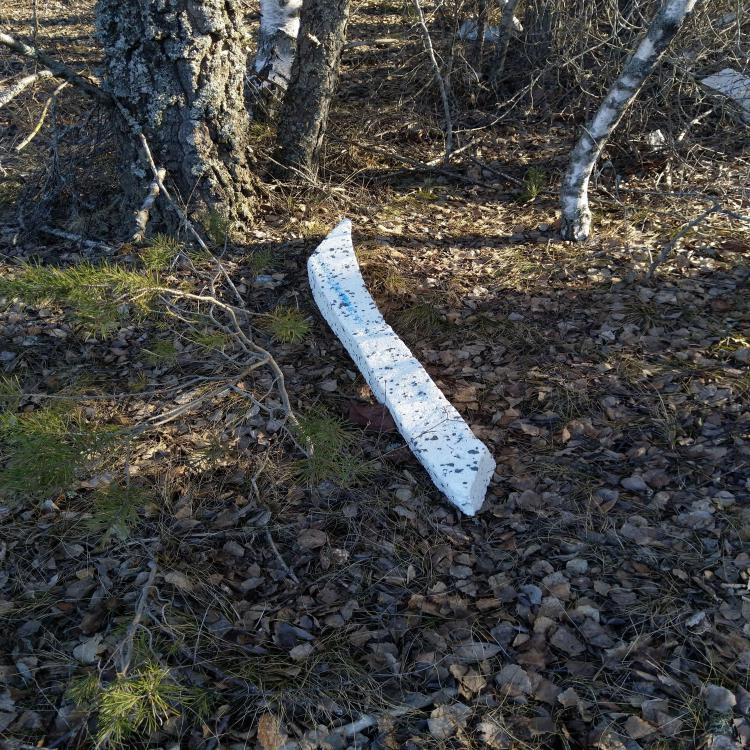Styrofoam piece: (307, 218, 496, 516)
Unlabeled litter: (701, 68, 749, 126)
